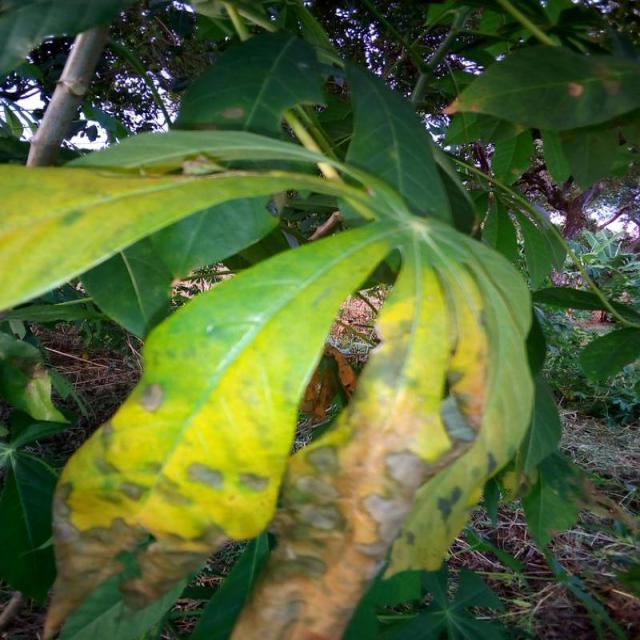cassava leaf: (19, 28, 542, 638)
